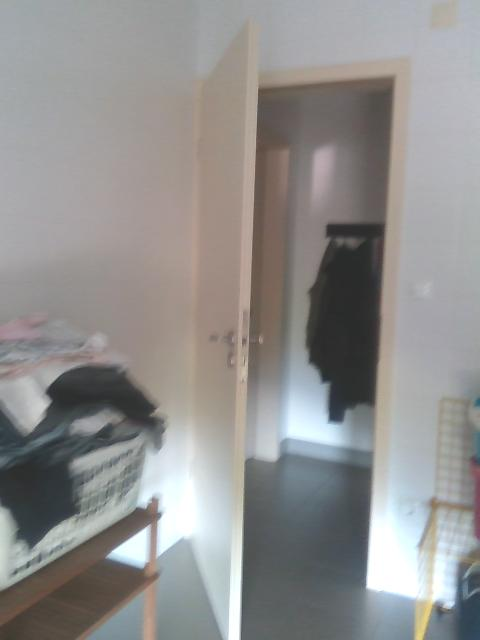semi_door: (185, 16, 408, 639)
